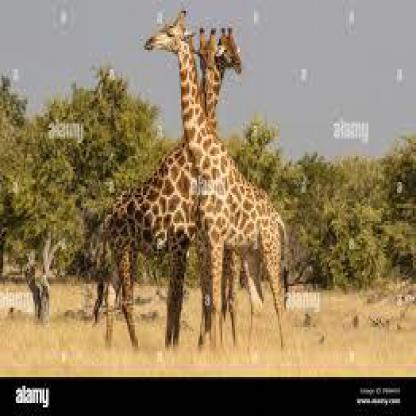giraffe: (137, 7, 294, 353), (89, 22, 240, 355)
